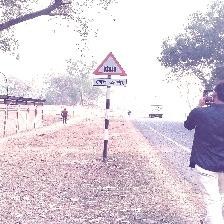Rail-crossing: (92, 53, 128, 88)
